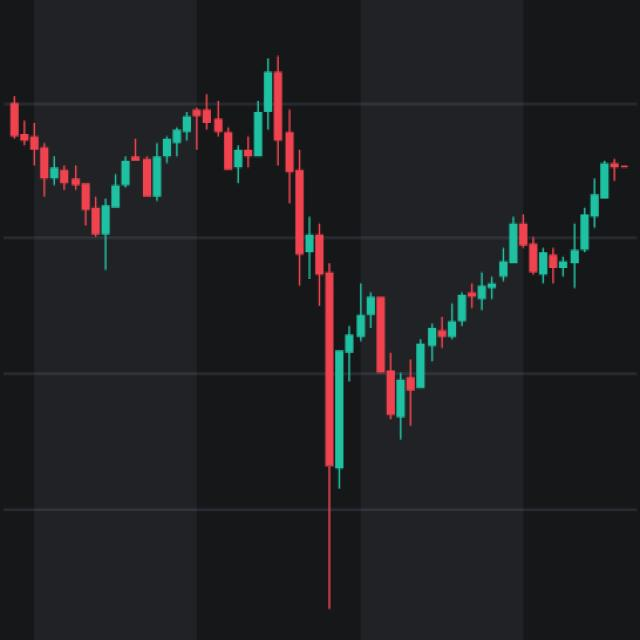Ascending-Triangle: (4, 98, 336, 312)
